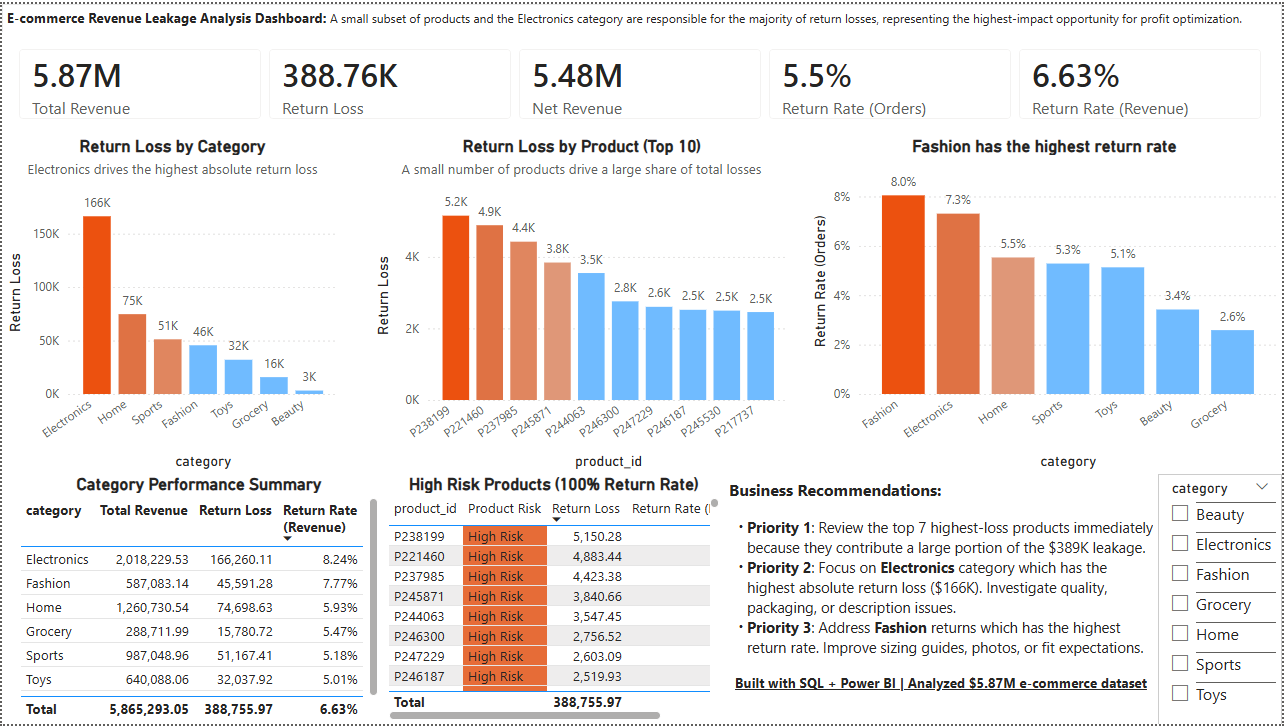

What the dashboard file says about the page in this screenshot:
{"tool":"powerbi","page":{"name":"Executive Summary","canvas":[1280,720],"ordinal":0},"visuals":[{"type":"clusteredColumnChart","title":"Return Loss by Category","fields":{"Category":["products.category"],"Y":["orders.Return Loss"]},"box":[0,131.8,340.9,337.8],"z":5000},{"type":"tableEx","title":"Category Performance Summary","fields":{"Values":["products.category","orders.Total Revenue","orders.Return Loss","orders.Return Rate"]},"box":[12.5,469.5,368.1,251],"z":6000},{"type":"clusteredColumnChart","title":"Fashion has the highest return rate","fields":{"Category":["products.category"],"Y":["orders.Return Rate (Orders)"]},"box":[805.2,131.8,474.8,337.8],"z":7000},{"type":"clusteredColumnChart","title":"Return Loss by Product (Top 10)","fields":{"Category":["products.product_id"],"Y":["orders.Return Loss"]},"box":[368.1,131.8,422.5,337.8],"z":8000},{"type":"textbox","box":[0,0,1280,93.1],"z":10000},{"type":"tableEx","title":"High Risk Products (100% Return Rate)","fields":{"Values":["products.product_id","orders.Product Risk","orders.Return Loss","orders.Return Rate"]},"box":[380.7,469.5,340.9,251],"z":11000},{"type":"slicer","fields":{"Values":["products.category"]},"box":[1155.6,469.5,124.4,251],"z":12000},{"type":"cardVisual","fields":{"Data":["orders.Total Revenue","orders.Return Loss","orders.Net Revenue","orders.Return Rate (Orders)","orders.Return Rate"]},"box":[0,28.2,1280,103.5],"z":12001},{"type":"textbox","box":[721.6,469.5,434,251],"z":12002}]}

Visuals, with their boxes in screenshot pixels (x1, y1, x2, y2), scaled from the page's 1280x720 canvas onto the 1284x726 screenshot:
"Return Loss by Category" clusteredColumnChart: bbox(0, 133, 342, 474)
"Category Performance Summary" tableEx: bbox(13, 473, 382, 725)
"Fashion has the highest return rate" clusteredColumnChart: bbox(808, 133, 1283, 474)
"Return Loss by Product (Top 10)" clusteredColumnChart: bbox(369, 133, 793, 474)
textbox: bbox(0, 0, 1283, 94)
"High Risk Products (100% Return Rate)" tableEx: bbox(382, 473, 724, 725)
slicer - products.category: bbox(1159, 473, 1283, 725)
cardVisual - orders.Total Revenue x orders.Return Loss: bbox(0, 28, 1283, 133)
textbox: bbox(724, 473, 1159, 725)
